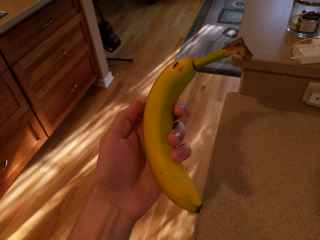banana: (140, 35, 255, 218)
